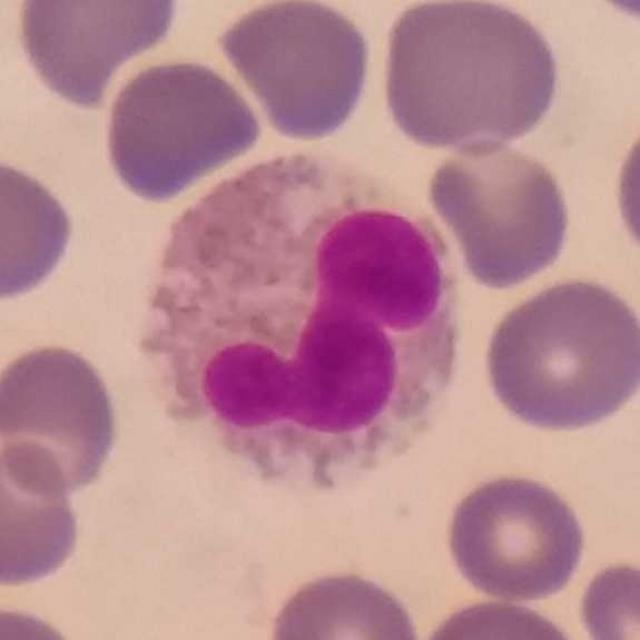Eosinophil: (137, 145, 470, 508)
RBC: (377, 0, 566, 157), (478, 273, 640, 436), (99, 53, 265, 204), (423, 132, 577, 292), (215, 0, 376, 144), (440, 468, 591, 606), (0, 337, 126, 502), (9, 0, 186, 109), (0, 435, 86, 592), (262, 564, 426, 640), (0, 151, 80, 306), (414, 595, 590, 640), (607, 101, 640, 274), (574, 555, 640, 640), (0, 597, 90, 640), (575, 0, 639, 32)
